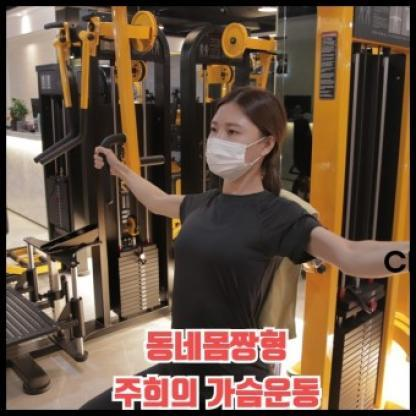chest fly machine: (70, 8, 416, 416)
